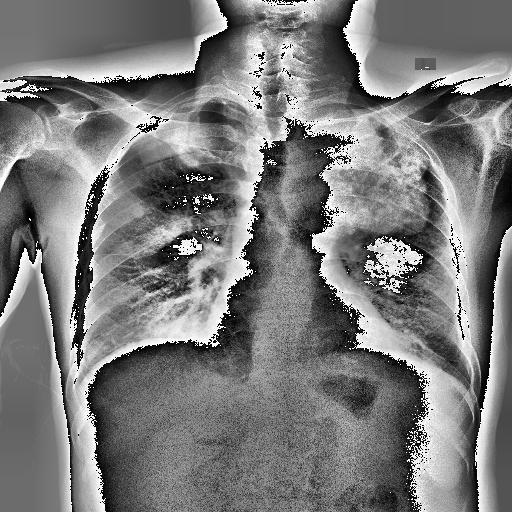11- Pleural thickening: (291, 96, 374, 158), (108, 103, 180, 165)
13- Pulmonary fibrosis: (156, 107, 210, 167)
4- Consolidation: (159, 106, 219, 169), (164, 126, 226, 167)
5- ILD: (374, 242, 487, 364)
6- Infiltration: (410, 234, 458, 338)
8- Nodule-Mass: (298, 106, 430, 233), (298, 117, 431, 234), (314, 106, 426, 232), (128, 202, 144, 218), (130, 205, 146, 219), (132, 204, 144, 218), (101, 305, 112, 315)
